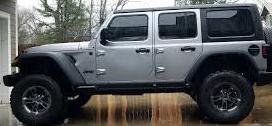SUV: (5, 5, 268, 125)
